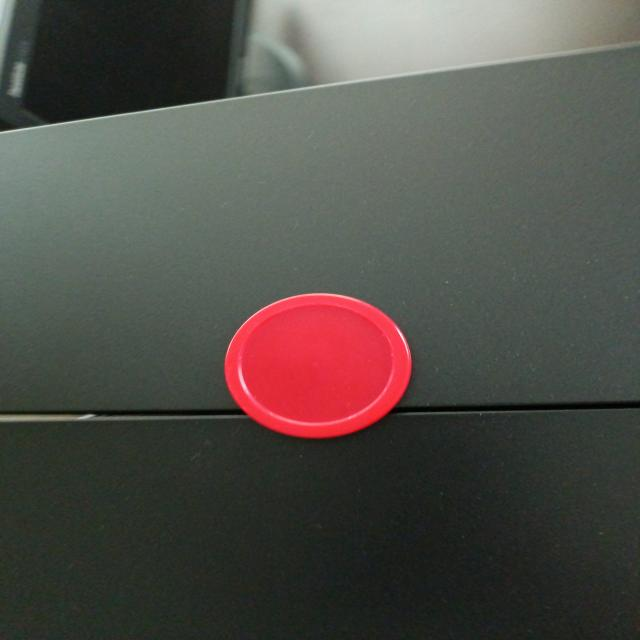chip: (218, 289, 418, 442)
